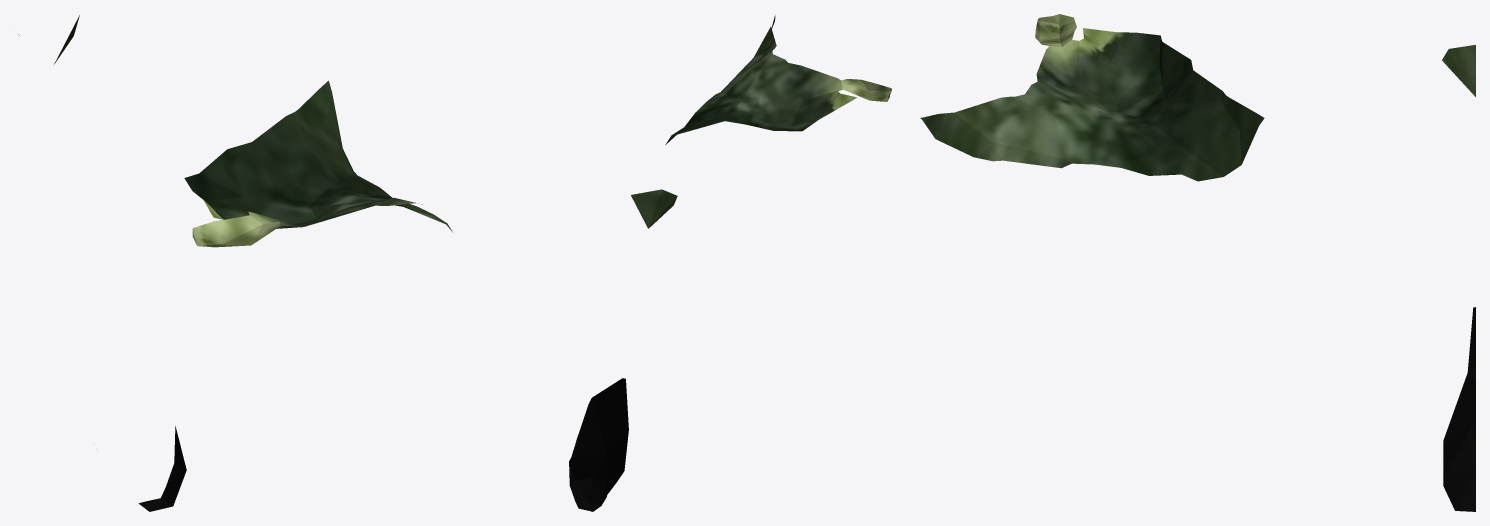
The picture shows the model from 3 angles, left to right: view 1: azimuth 30°, elevation 25°; view 2: azimuth 150°, elevation 25°; view 3: azimuth 270°, elevation 25°; orthographic projection. The views are drawn at different scales.
Bounding box in the file's own units: 0.9535 × 1.75 × 2.15.
1 material, 1 textured.
